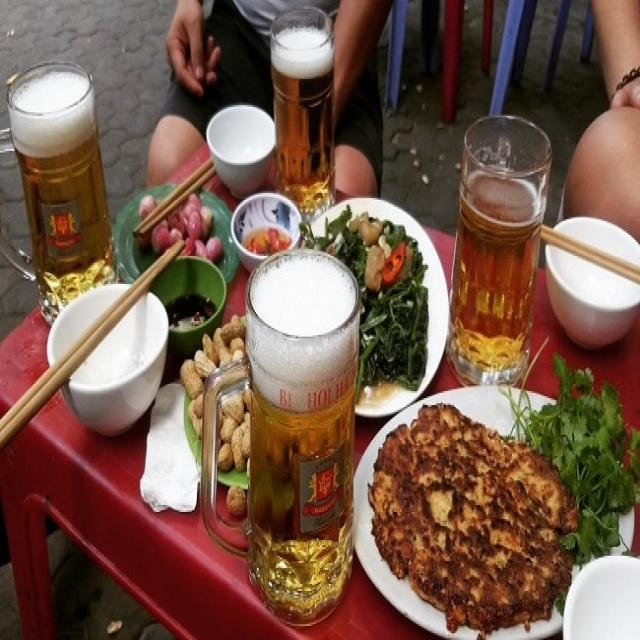bia: (246, 249, 373, 612), (4, 50, 128, 323), (448, 112, 547, 399), (269, 17, 343, 228)
dau phong rang: (185, 300, 268, 519)
rau muong xao toi: (294, 194, 440, 391)
trung chien: (362, 404, 631, 633)
